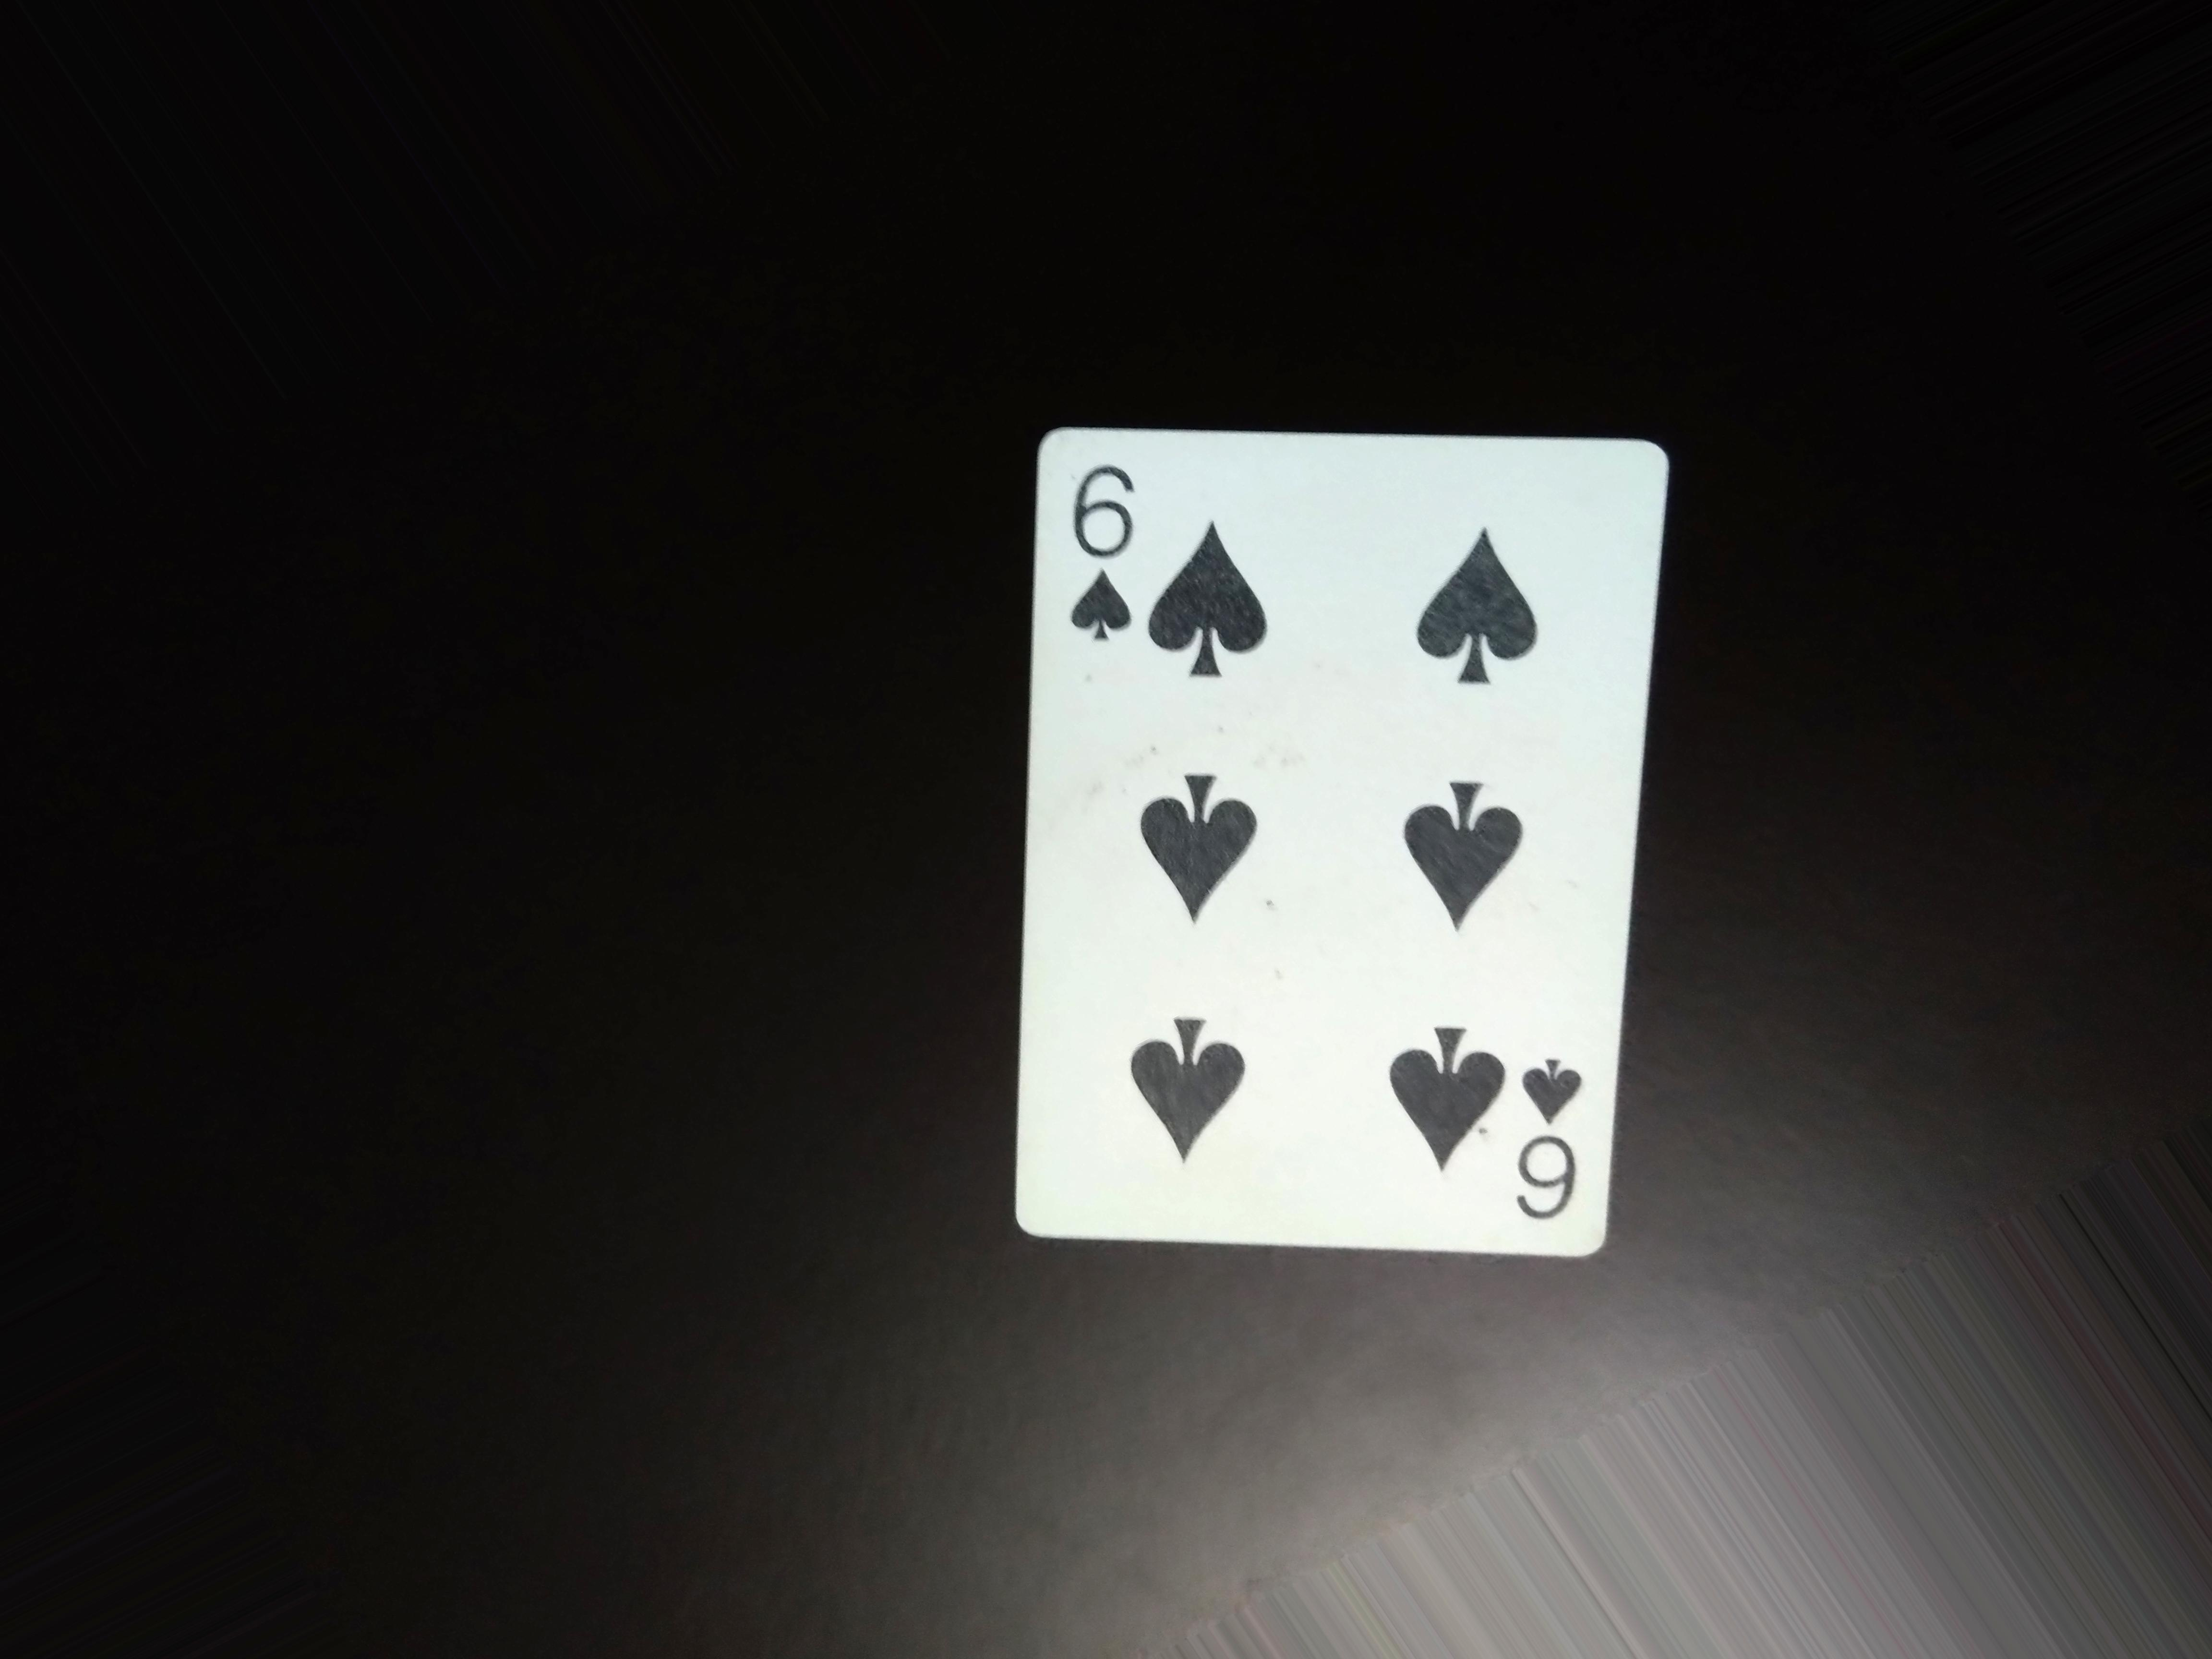6S: (1510, 1044, 1599, 1227)
